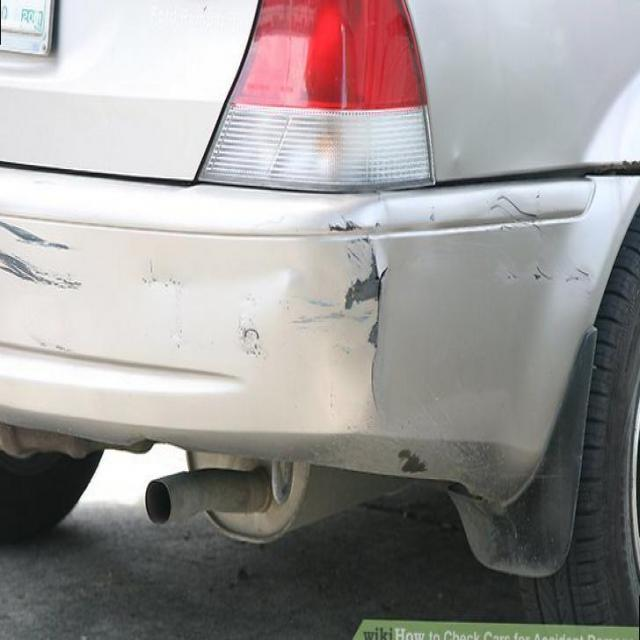scratch: (308, 194, 414, 441), (0, 210, 114, 347), (388, 440, 434, 482)
